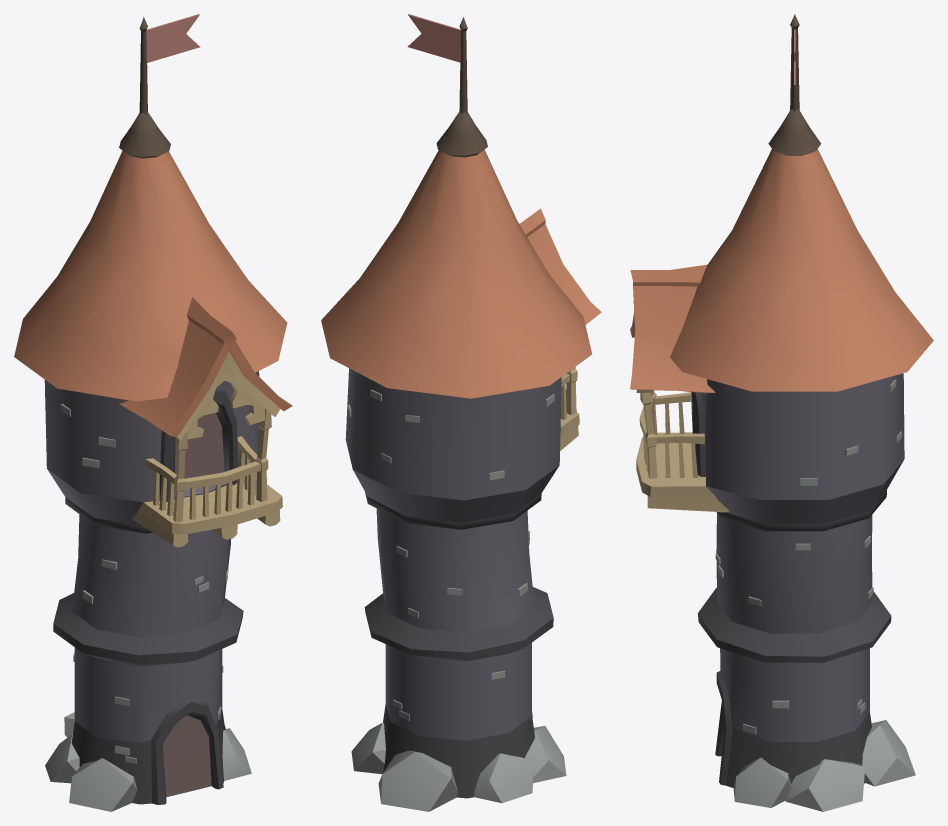
Rendered from tower.glb.
3 views of the same model, side by side, from view 1: azimuth 30°, elevation 25°; view 2: azimuth 150°, elevation 25°; view 3: azimuth 270°, elevation 25° (orthographic).
Visible parts, largest first — view 1: Circle; view 2: Circle; view 3: Circle.
Part boxes in pixels (x1,y1,x2,y2): Circle: [14, 14, 292, 811]; Circle: [321, 14, 601, 811]; Circle: [630, 14, 933, 811].
Size of the model in its own units: 5.77 by 18.08 by 6.64.
Materials: 1 (1 with a texture image).
